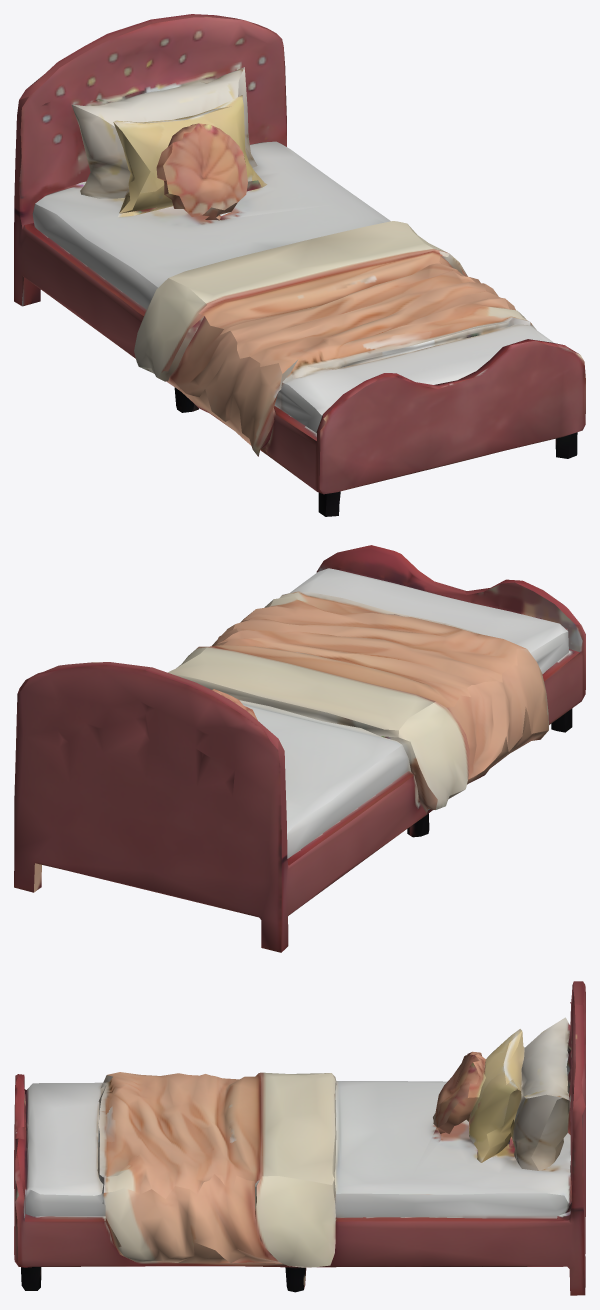
File: LitEnfantFemale_3D_textured.glb
3 views of the same model, one above another, from view 1: azimuth 30°, elevation 25°; view 2: azimuth 150°, elevation 25°; view 3: azimuth 270°, elevation 25° (orthographic). The views are drawn at different scales.
Visible parts, largest first — view 1: temp_mesh.ply; view 2: temp_mesh.ply; view 3: temp_mesh.ply.
Part boxes in pixels (left/top/right/bottom): temp_mesh.ply: left=14, top=14, right=585, bottom=516; temp_mesh.ply: left=14, top=545, right=585, bottom=952; temp_mesh.ply: left=14, top=981, right=585, bottom=1295.
Bounding box in the file's own units: 1.14 × 0.8812 × 1.97.
1 material, 1 textured.
